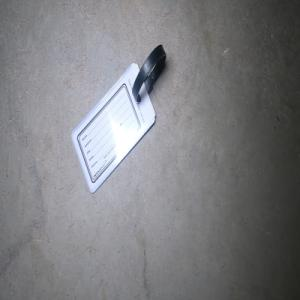LuggageTag: (69, 42, 167, 196)
